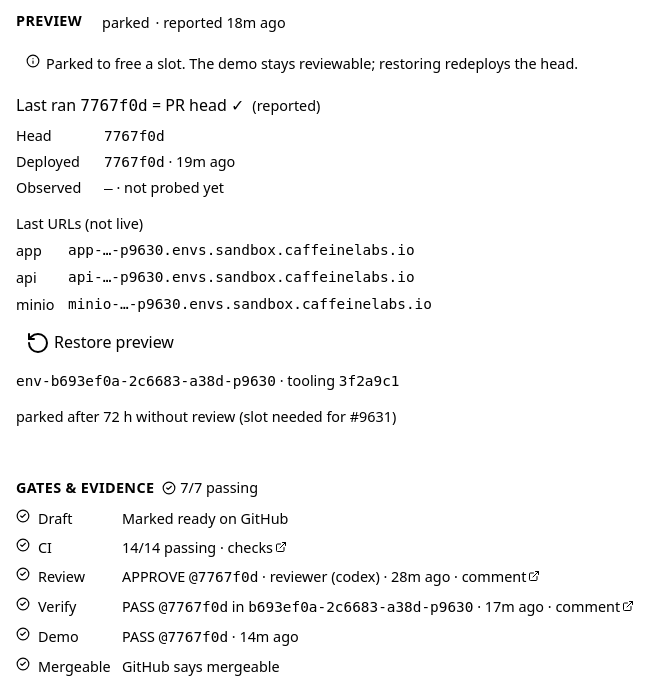
PR page · preview › restores a parked preview through the preview control
This screenshot has width=650, height=686.
(page scrolled)
Expected: the element with test id "review-preview-parked" is shown, [26,54,578,73]
What coordinates should you click on to do the following:
click the button with test id "review-preview-restore"
I would click on:
 (100, 342)
Its box is [16,328,184,356].
(page scrolled)
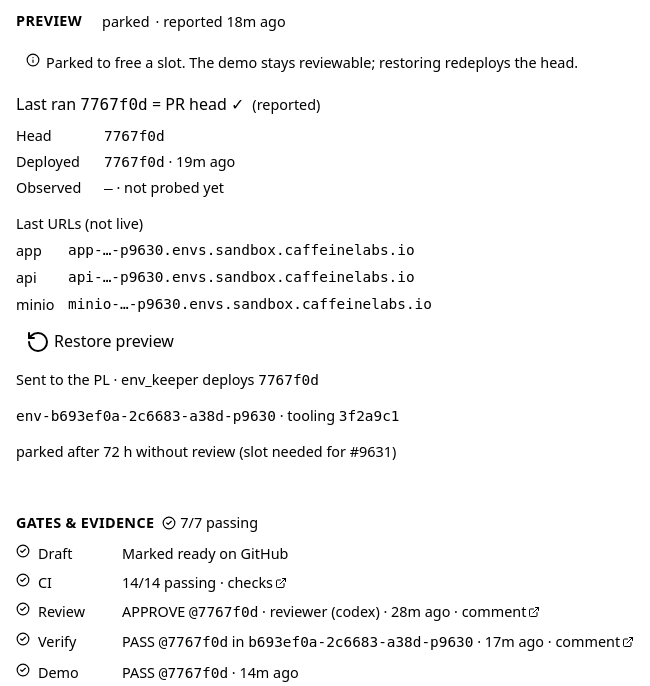
Result: the element with test id "review-preview-control-status" shows "Sent to the PL" at [16,370,254,389]
